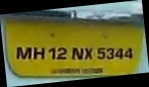character: (15, 45, 32, 59), (32, 46, 45, 60), (56, 46, 67, 60), (71, 47, 83, 59), (83, 46, 93, 60), (123, 46, 133, 60), (114, 47, 124, 59), (96, 46, 105, 59), (105, 46, 114, 59), (47, 46, 55, 60)
